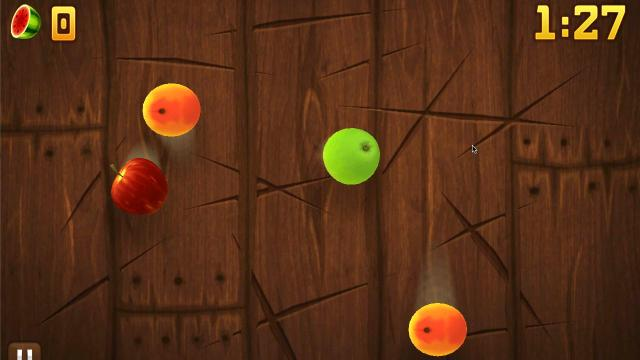fruit: (110, 153, 172, 216), (322, 128, 381, 184), (408, 302, 468, 356), (142, 83, 200, 137)
ignore: (10, 4, 42, 40)
